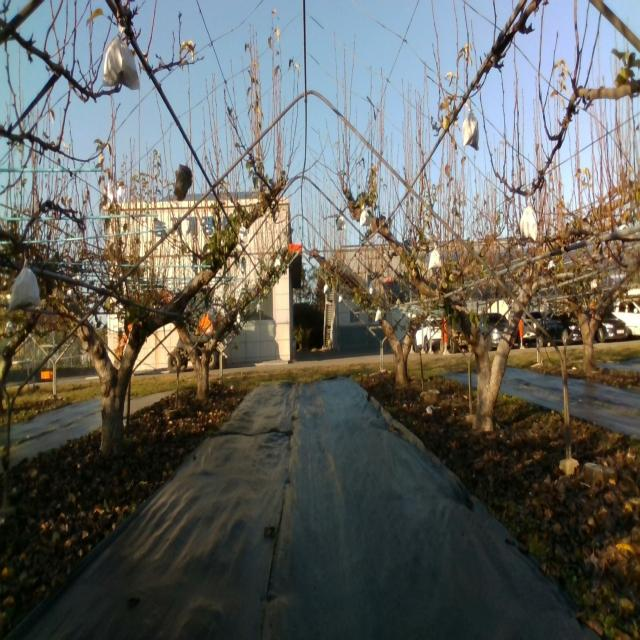pearbags: (101, 24, 142, 92), (8, 256, 41, 314), (462, 98, 479, 152), (518, 206, 538, 245), (427, 244, 443, 271), (238, 223, 250, 246), (360, 204, 370, 229)
